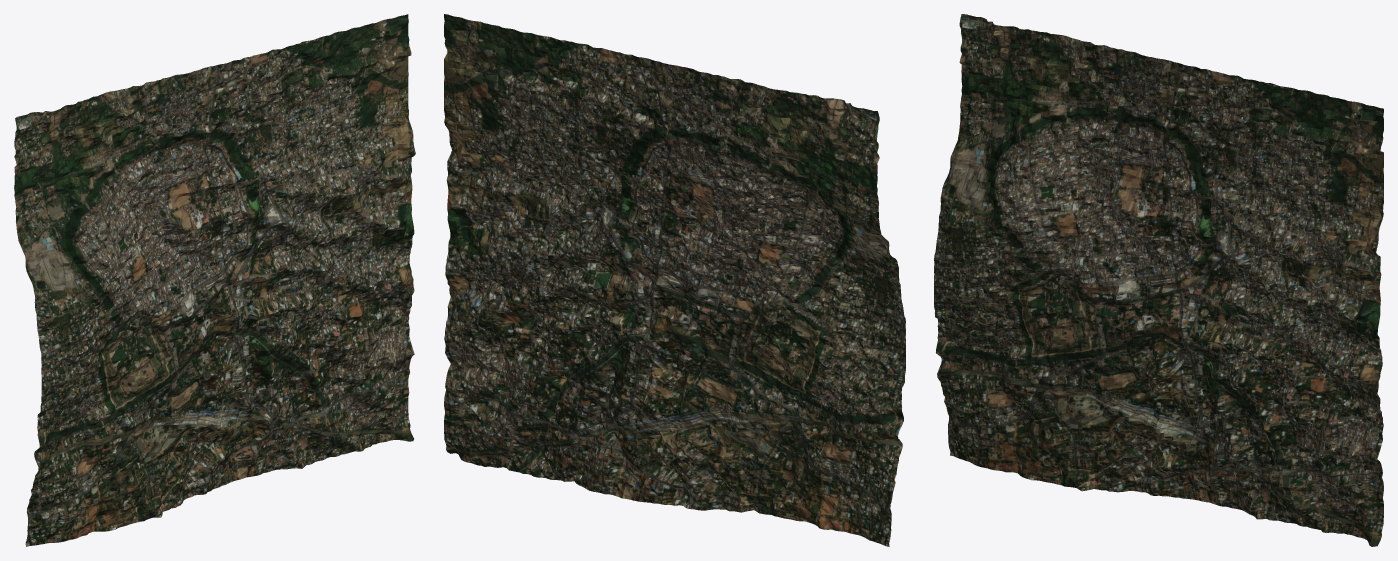
Rendered from cauvery.glb.
3 views of the same model, side by side, from view 1: azimuth 30°, elevation 25°; view 2: azimuth 150°, elevation 25°; view 3: azimuth 330°, elevation 25° (orthographic). The views are drawn at different scales.
Visible parts, largest first — view 1: geometry_0; view 2: geometry_0; view 3: geometry_0.
Part boxes in pixels (box(x1,y1,x2,y2)): geometry_0: box(14, 14, 415, 546); geometry_0: box(444, 14, 905, 546); geometry_0: box(934, 14, 1383, 546).
Size of the model in its own units: 119 by 119 by 18.
Materials: 1 (1 with a texture image).
